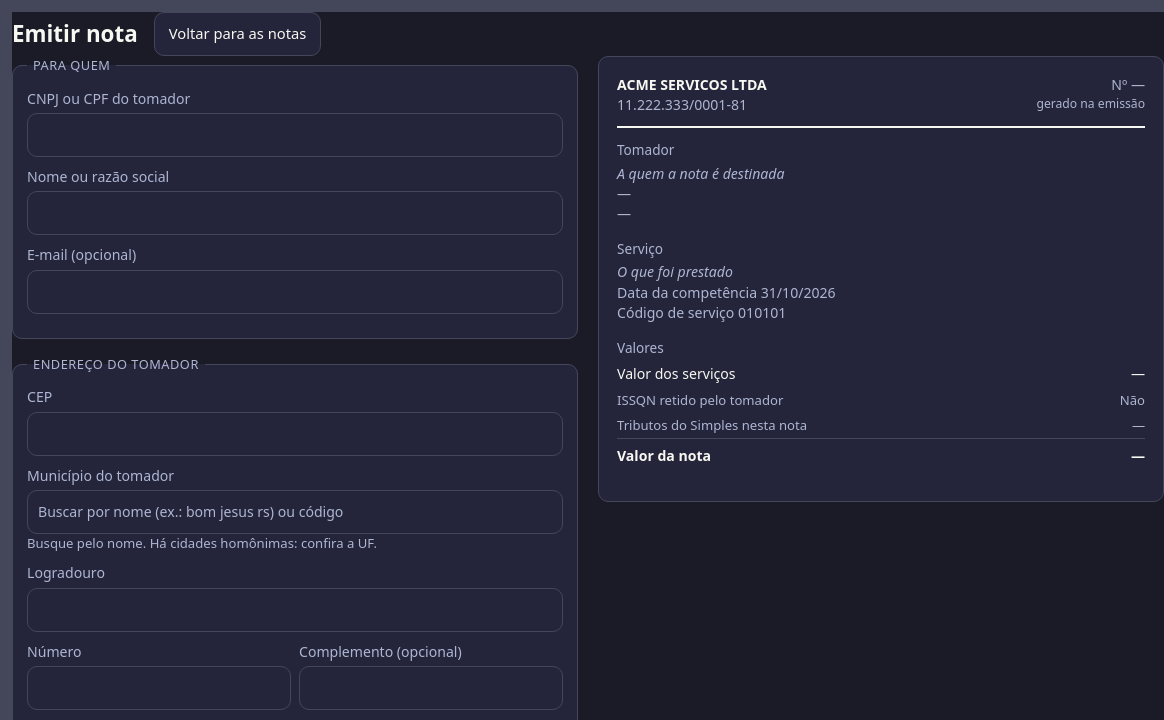
Test: a consulta é AJUDA, nunca portão › endereço incompleto na resposta não preenche campo nenhum
Type "11222333000181" into the field labelled "CNPJ ou CPF do tomador".
click(295, 135); type("11222333000181")  # box [27,113,563,157]
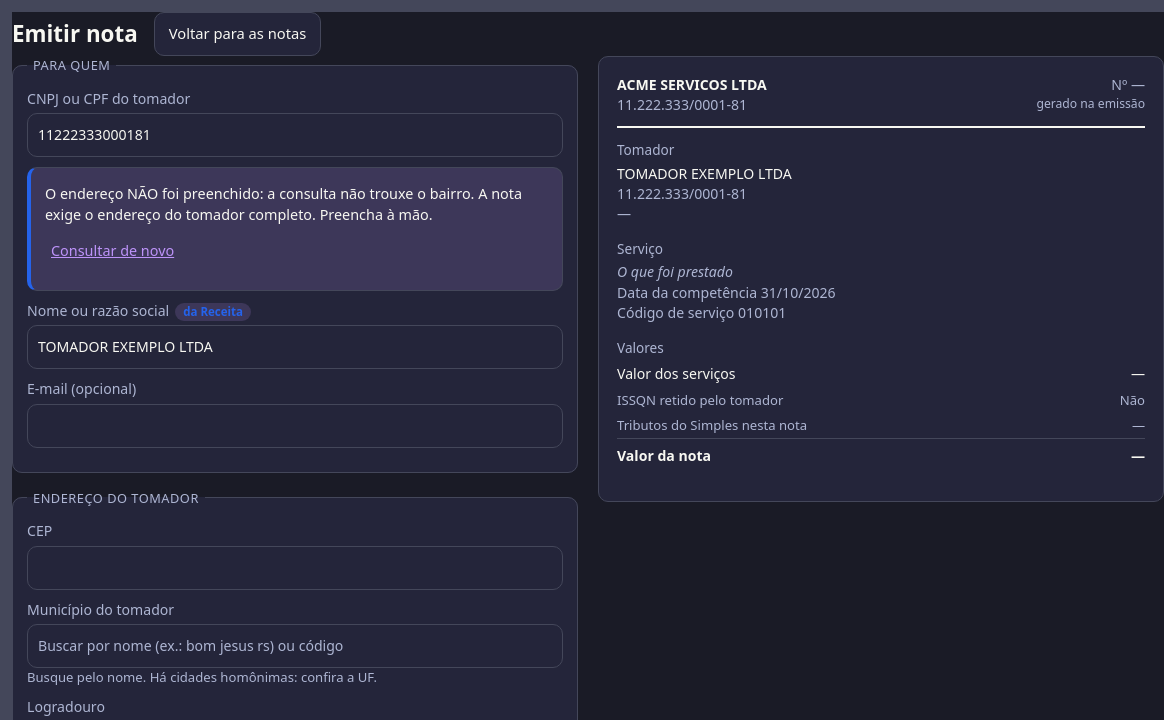
Expected: the field with id "emitir-cep" is empty, [27,546,563,590]
Result: the text "O endereço NÃO foi preenchido" is shown at [45,184,522,224]
Result: the field with id "emitir-nome" holds "TOMADOR EXEMPLO LTDA" at [27,325,563,369]
